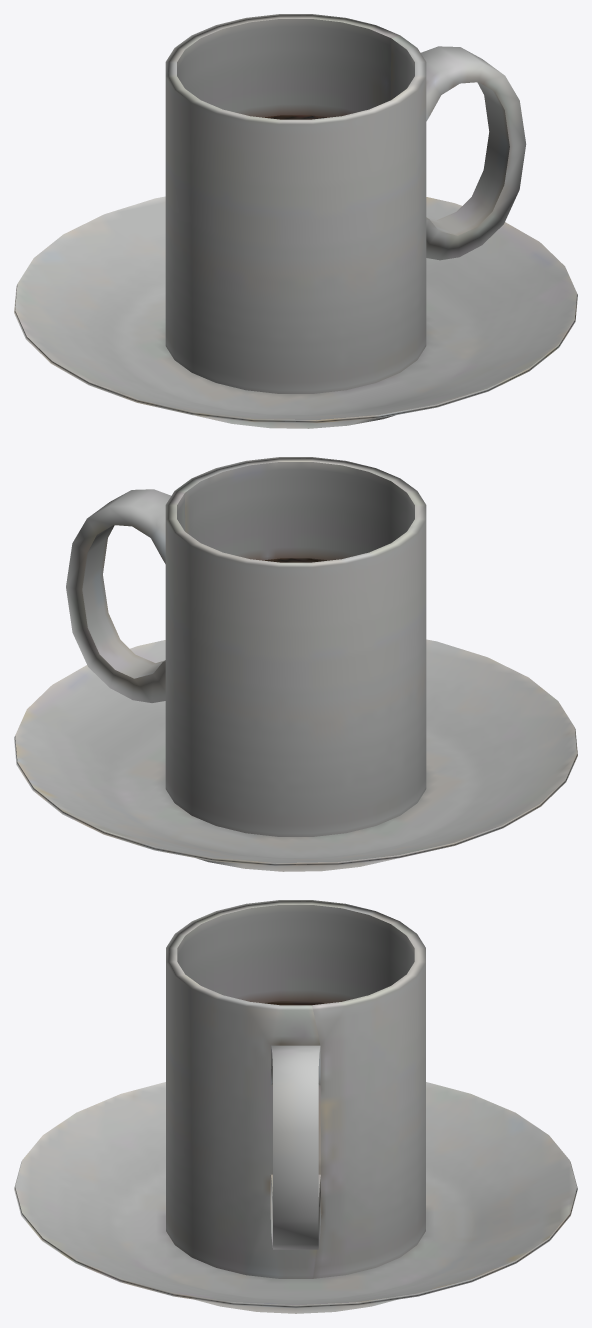
File: sm24_015_cup01a.fbx
3 views of the same model, one above another, from view 1: azimuth 30°, elevation 25°; view 2: azimuth 150°, elevation 25°; view 3: azimuth 270°, elevation 25° (orthographic).
Parts seen in each view (by area): view 1: LOD_1_Group_0_Sub_1__sm24_015_cup01A_A_Mat; view 2: LOD_1_Group_0_Sub_1__sm24_015_cup01A_A_Mat; view 3: LOD_1_Group_0_Sub_1__sm24_015_cup01A_A_Mat.
Boxes of the visible parts, x1=… form: LOD_1_Group_0_Sub_1__sm24_015_cup01A_A_Mat: x1=14, y1=14, x2=577, y2=428; LOD_1_Group_0_Sub_1__sm24_015_cup01A_A_Mat: x1=14, y1=457, x2=577, y2=871; LOD_1_Group_0_Sub_1__sm24_015_cup01A_A_Mat: x1=14, y1=900, x2=577, y2=1313.
Size of the model in its own units: 0.1889 by 0.1053 by 0.1889.
